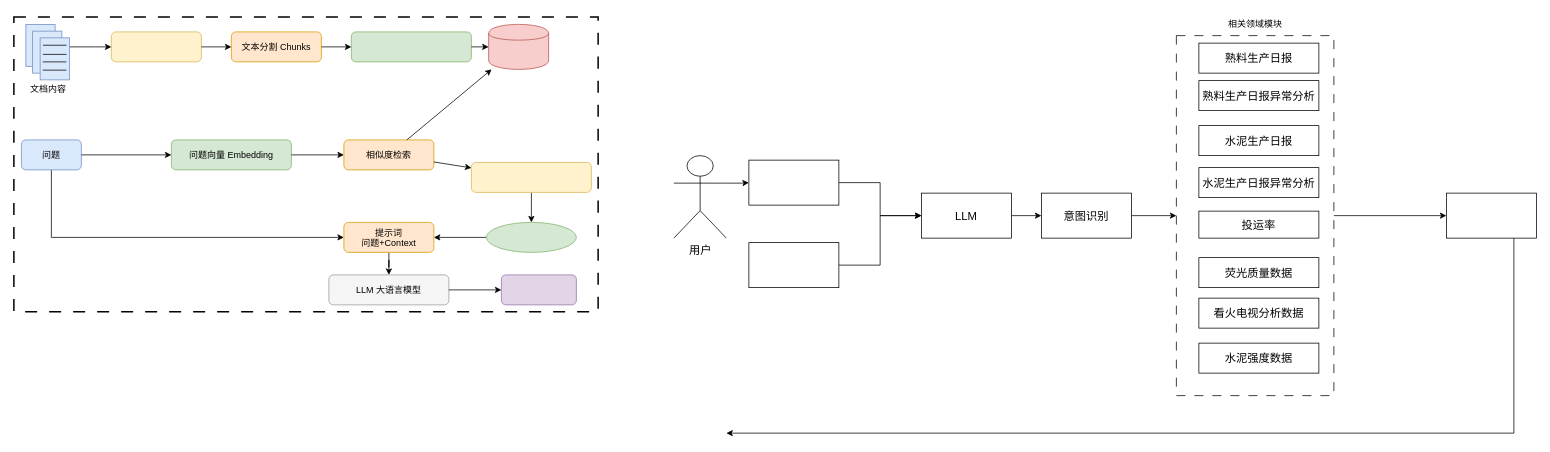
Some shapes in this 1550 by 452 pixel diagram are drawn without their labels. Here are the shapes that lost their labels. From the top down, the centre of each, then its label:
the point at 156,46: 文本抽取 Text
the point at 411,46: 文本向量 Embedding
the point at 518,46: 向量数据库
the point at 531,177: 相关段落内容 Context
the point at 793,182: Query
the point at 1491,215: 智能问数
the point at 531,237: 提示模板
the point at 793,265: prompt工程
the point at 538,289: 答案输出
